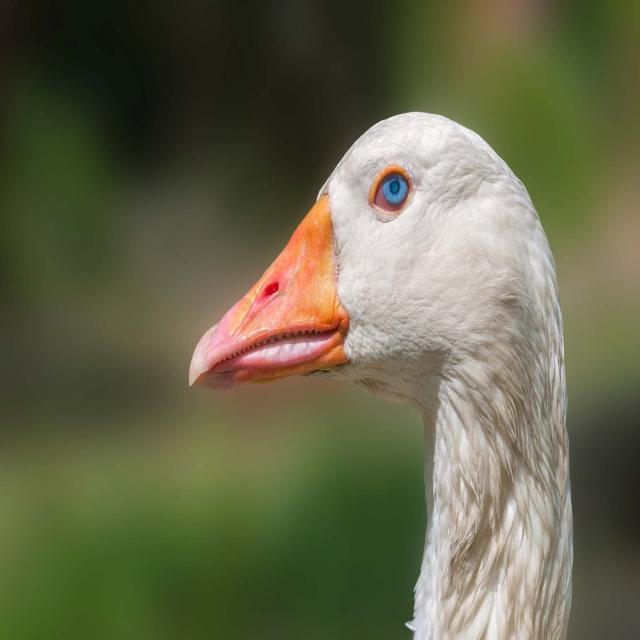Goose: (181, 112, 572, 640)
